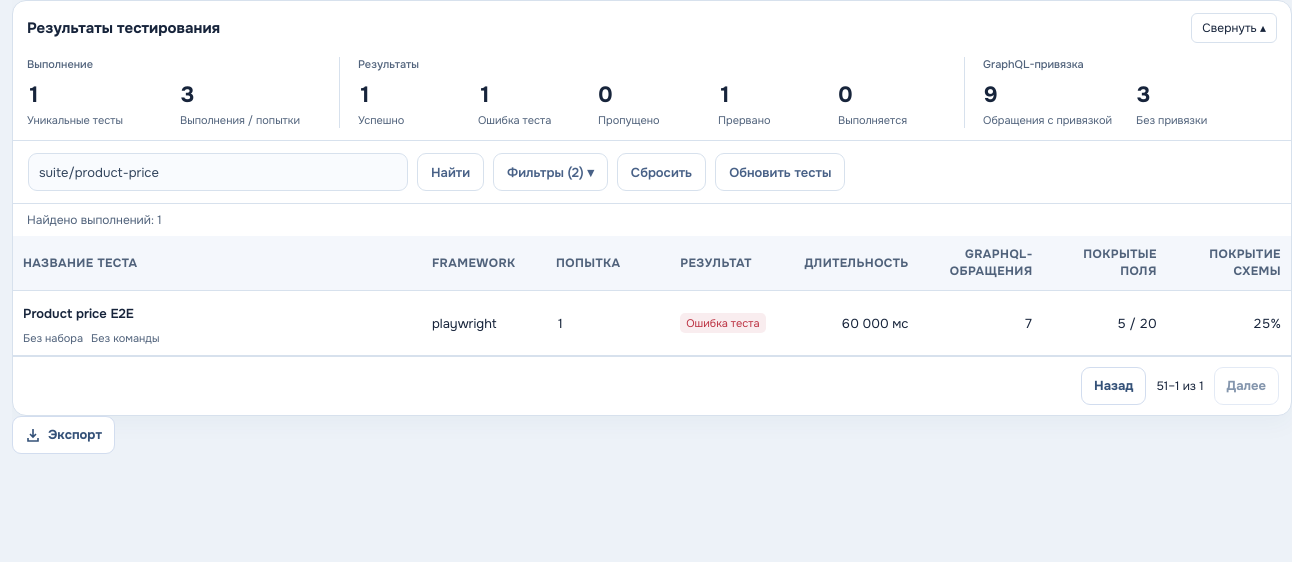
it: resets group filters on run context changes while discarding previous options
Step 1. Click the button "Фильтры (2) ▾" → click(550, 172), box [493,153,608,191]
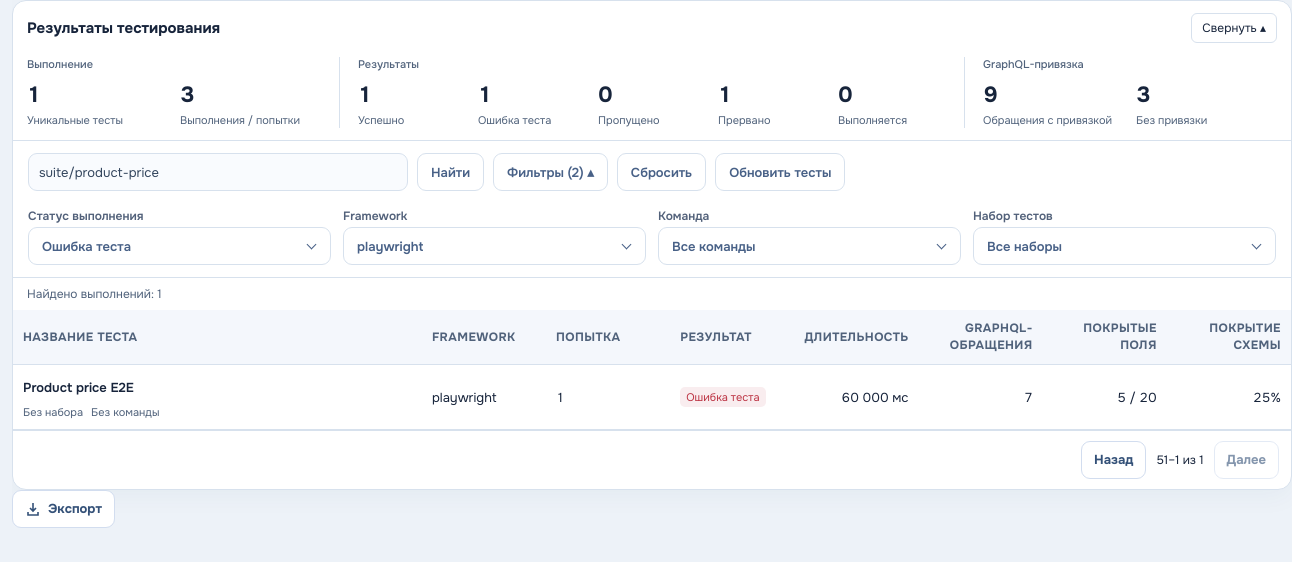
Step 2. Click the dropdown labelled "Все команды" → click(714, 246), box [658,227,961,265]
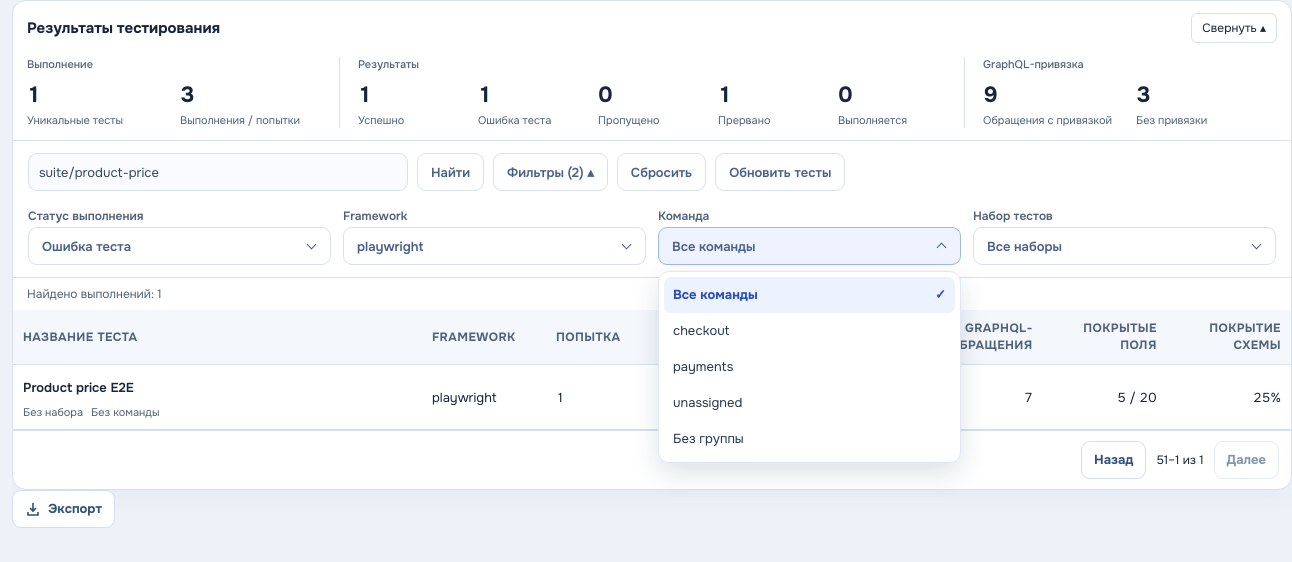
Step 3. Click the option "checkout" → click(701, 331), box [673,322,729,339]
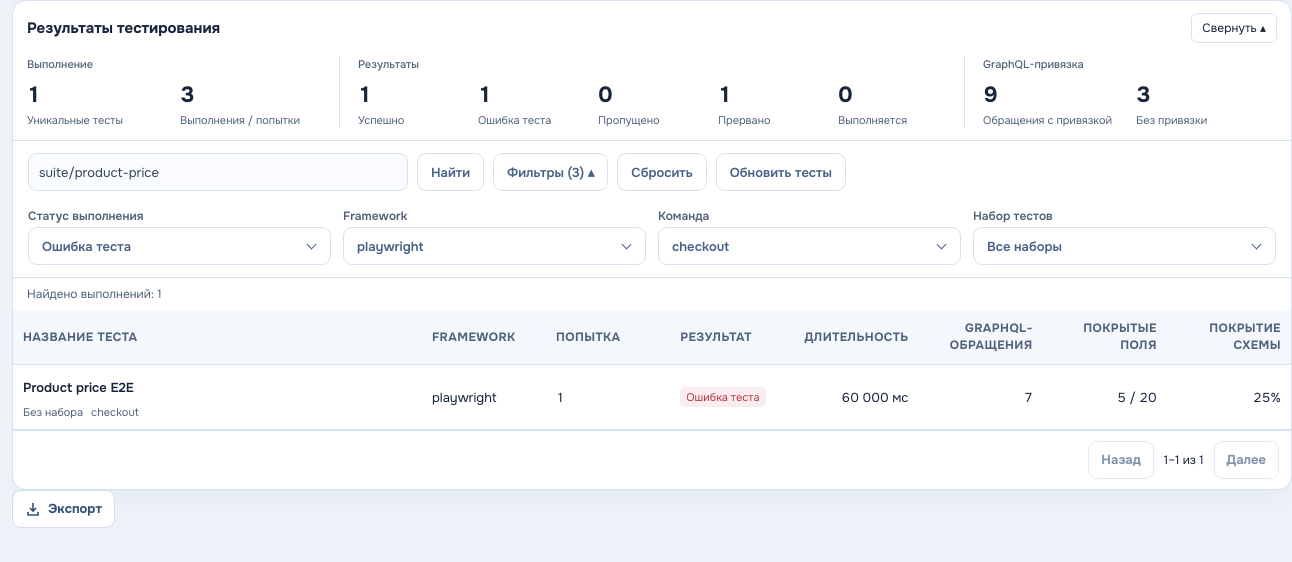
Step 4. Click the dropdown labelled "Все наборы" → click(1024, 246), box [973,227,1276,265]
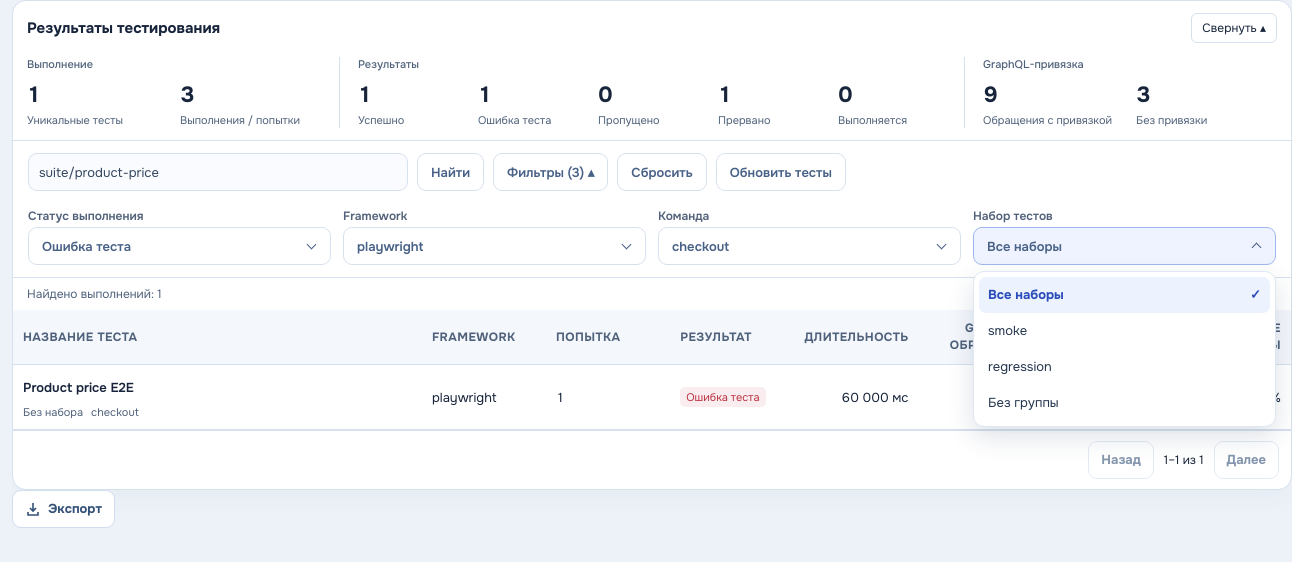
Step 5. Click the option "smoke" → click(1008, 331), box [988,322,1027,339]
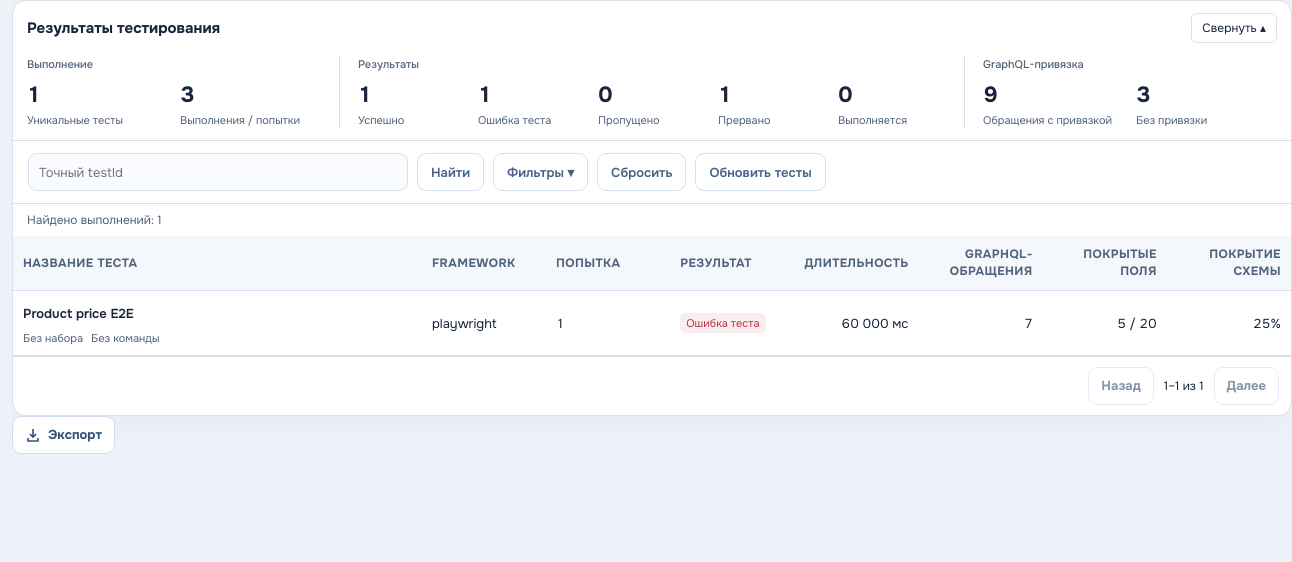
Step 6. Click the button "Фильтры ▾" → click(540, 172), box [493,153,588,191]
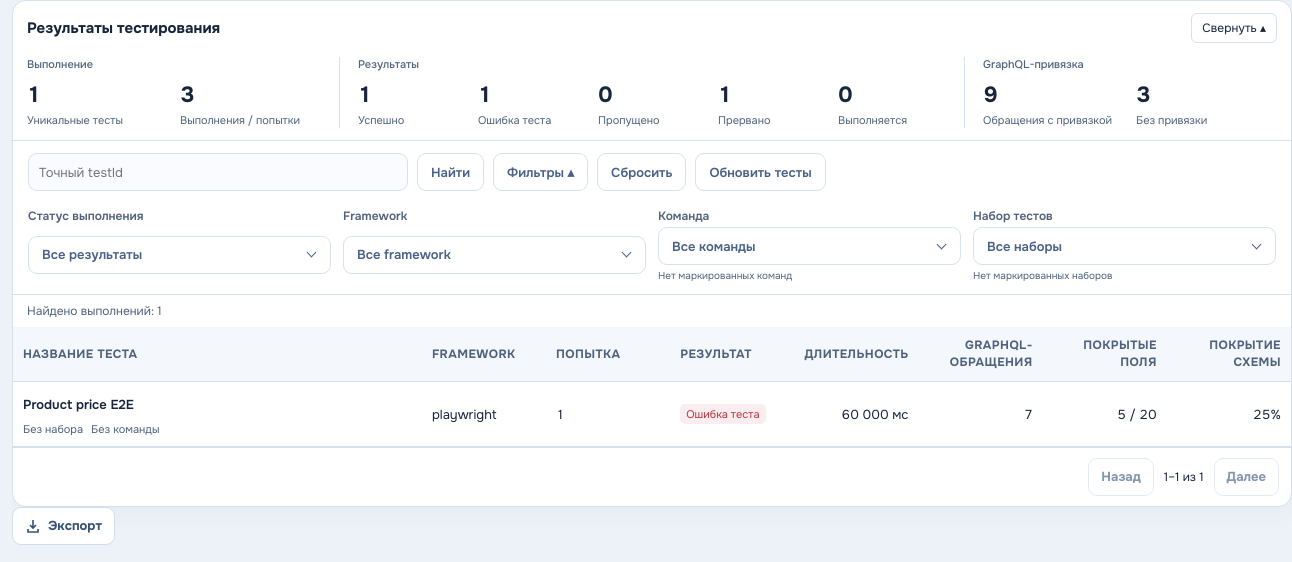
Expected: the dropdown does not show "checkout"
Expected: the text "Все команды" is shown, [672,238,756,255]
Expected: the text "Все наборы" is shown, [987,238,1062,255]
